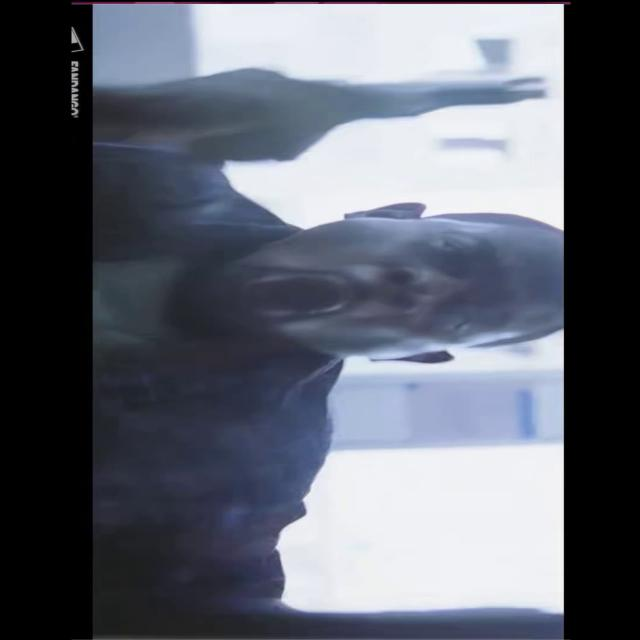weapons: (195, 62, 561, 165)
